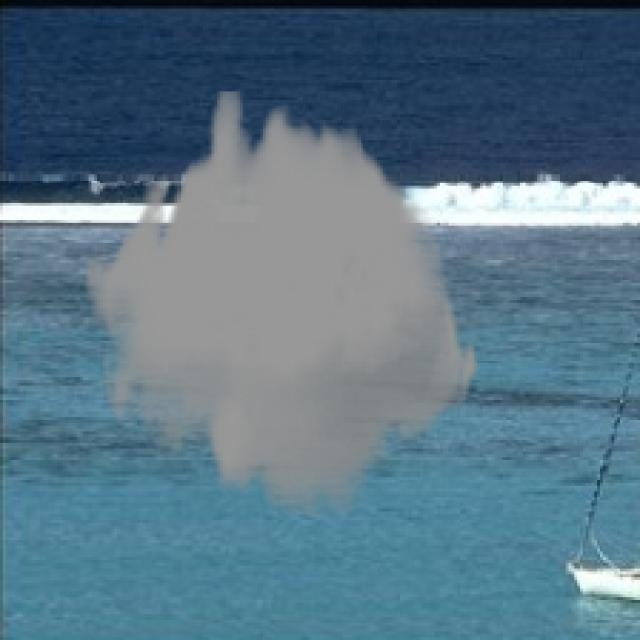smoke: (83, 92, 480, 517)
